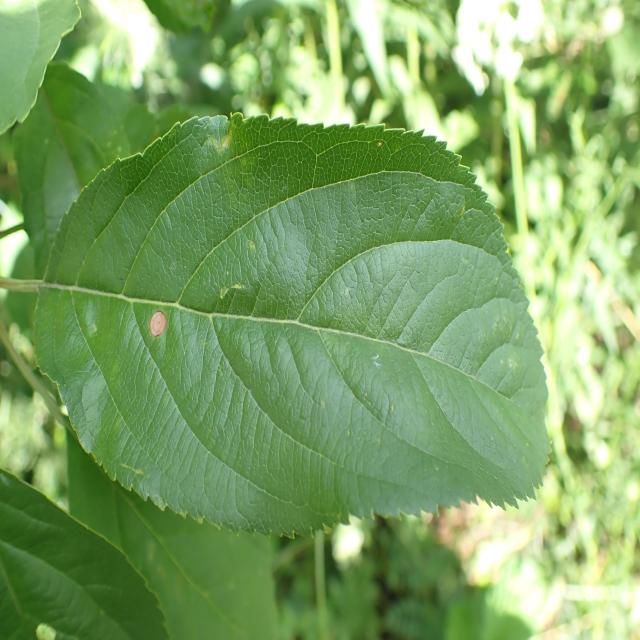Black Rot: (142, 298, 174, 361)
